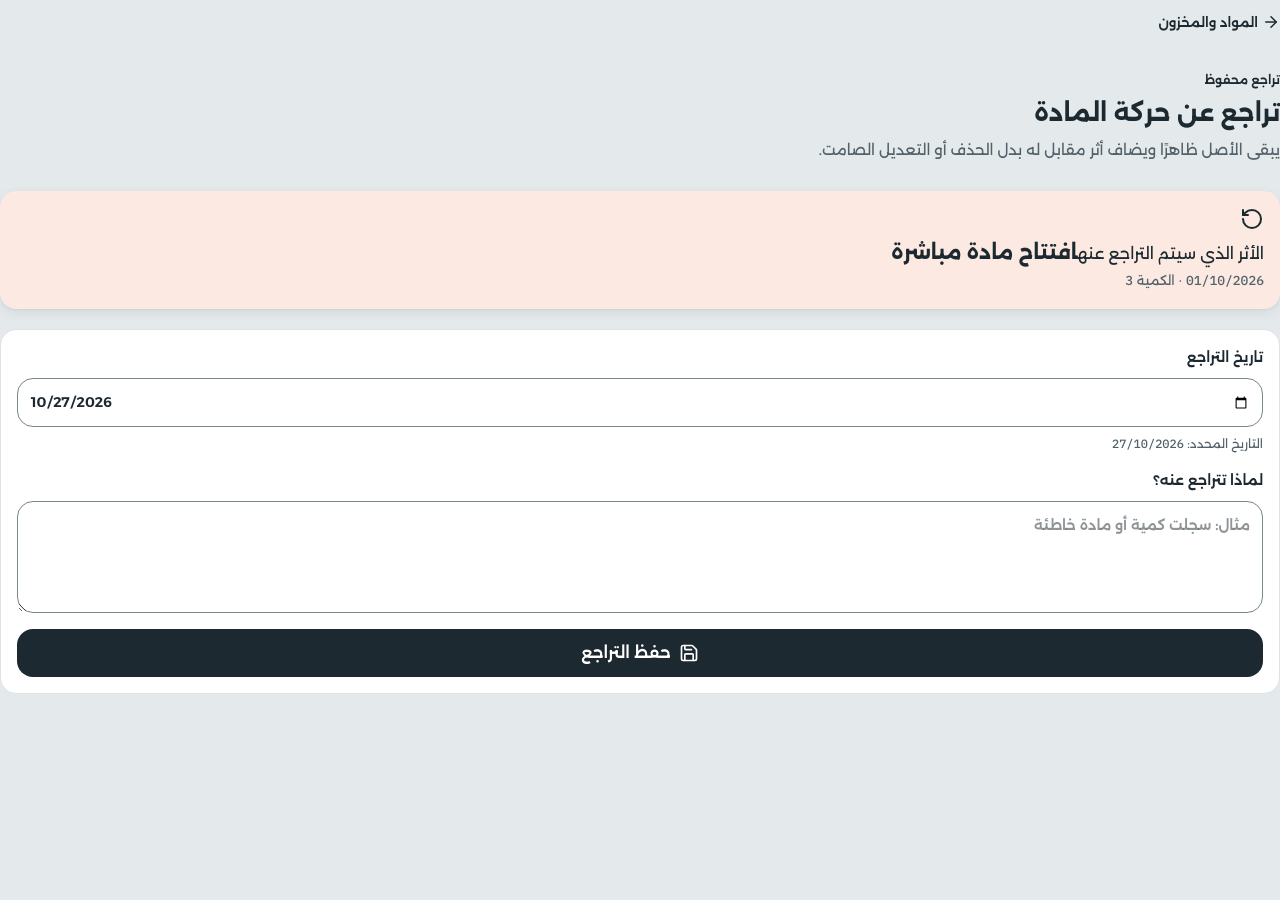
InventoryReversalEditor — direct page-boundary behavior (R9-W3 + R9 continuation) › protects unsaved changes behind the guard dialog on back navigation
Type "سبب غير محفوظ" into the text box.
click(640, 557); type("سبب غير محفوظ")  # box [17,501,1263,613]
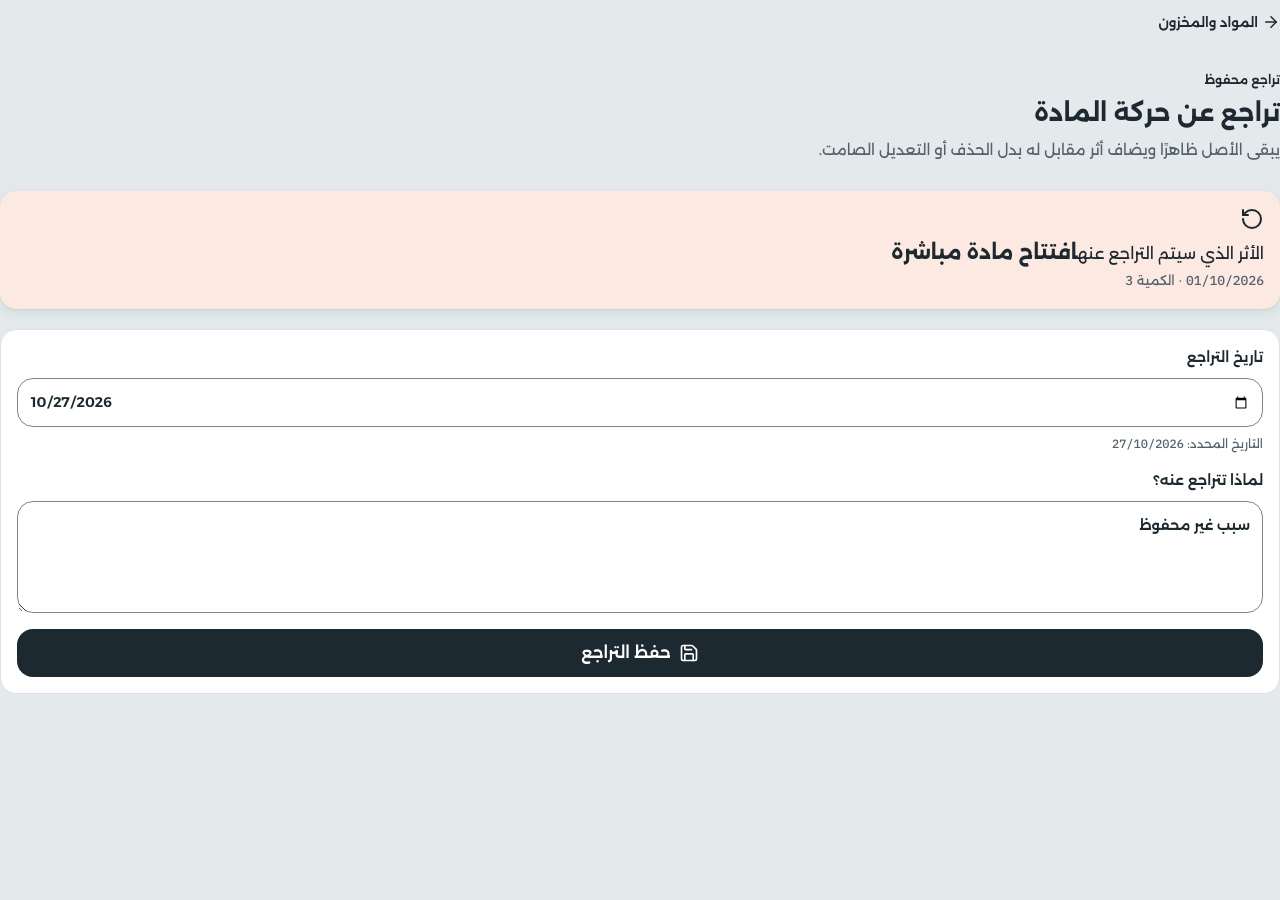
Click the button "المواد والمخزون".
click(1219, 22)  # box [1158,0,1279,44]
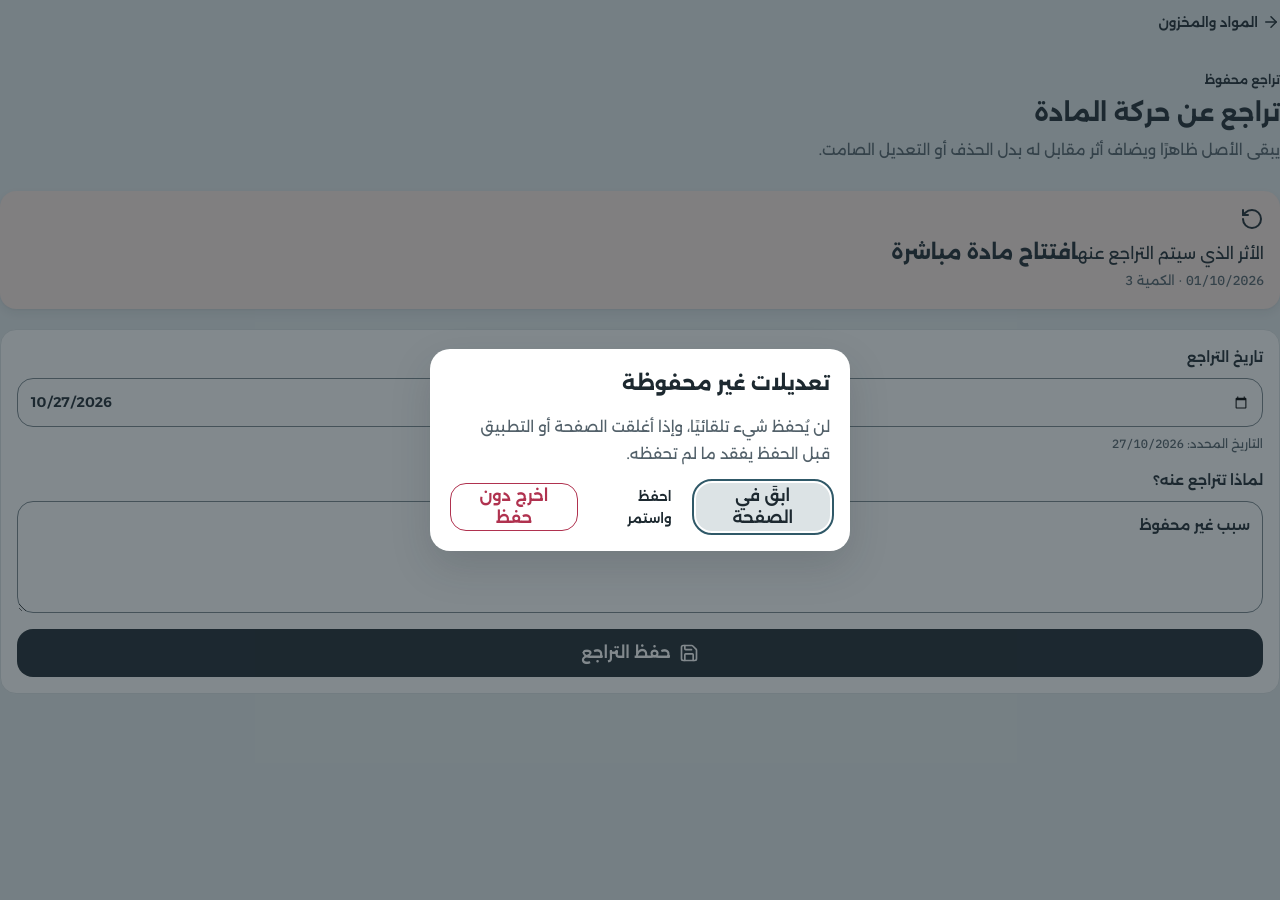
Check: the dialog with test id "unsaved-changes-drawer" is shown, box [430,349,850,551]
Click the button "ابقَ في الصفحة".
click(763, 507)  # box [696,483,830,531]
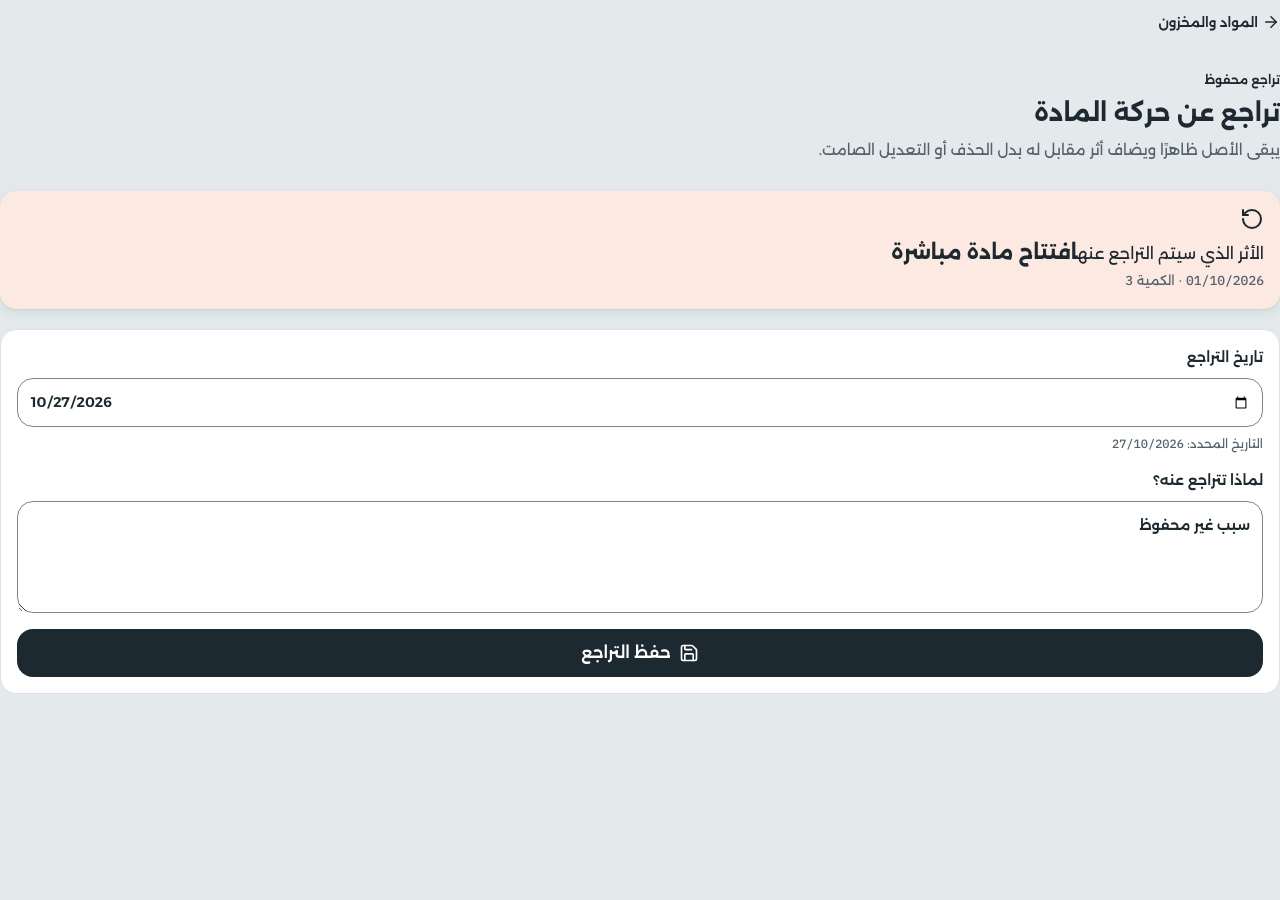
Check: the dialog with test id "unsaved-changes-drawer" is gone
